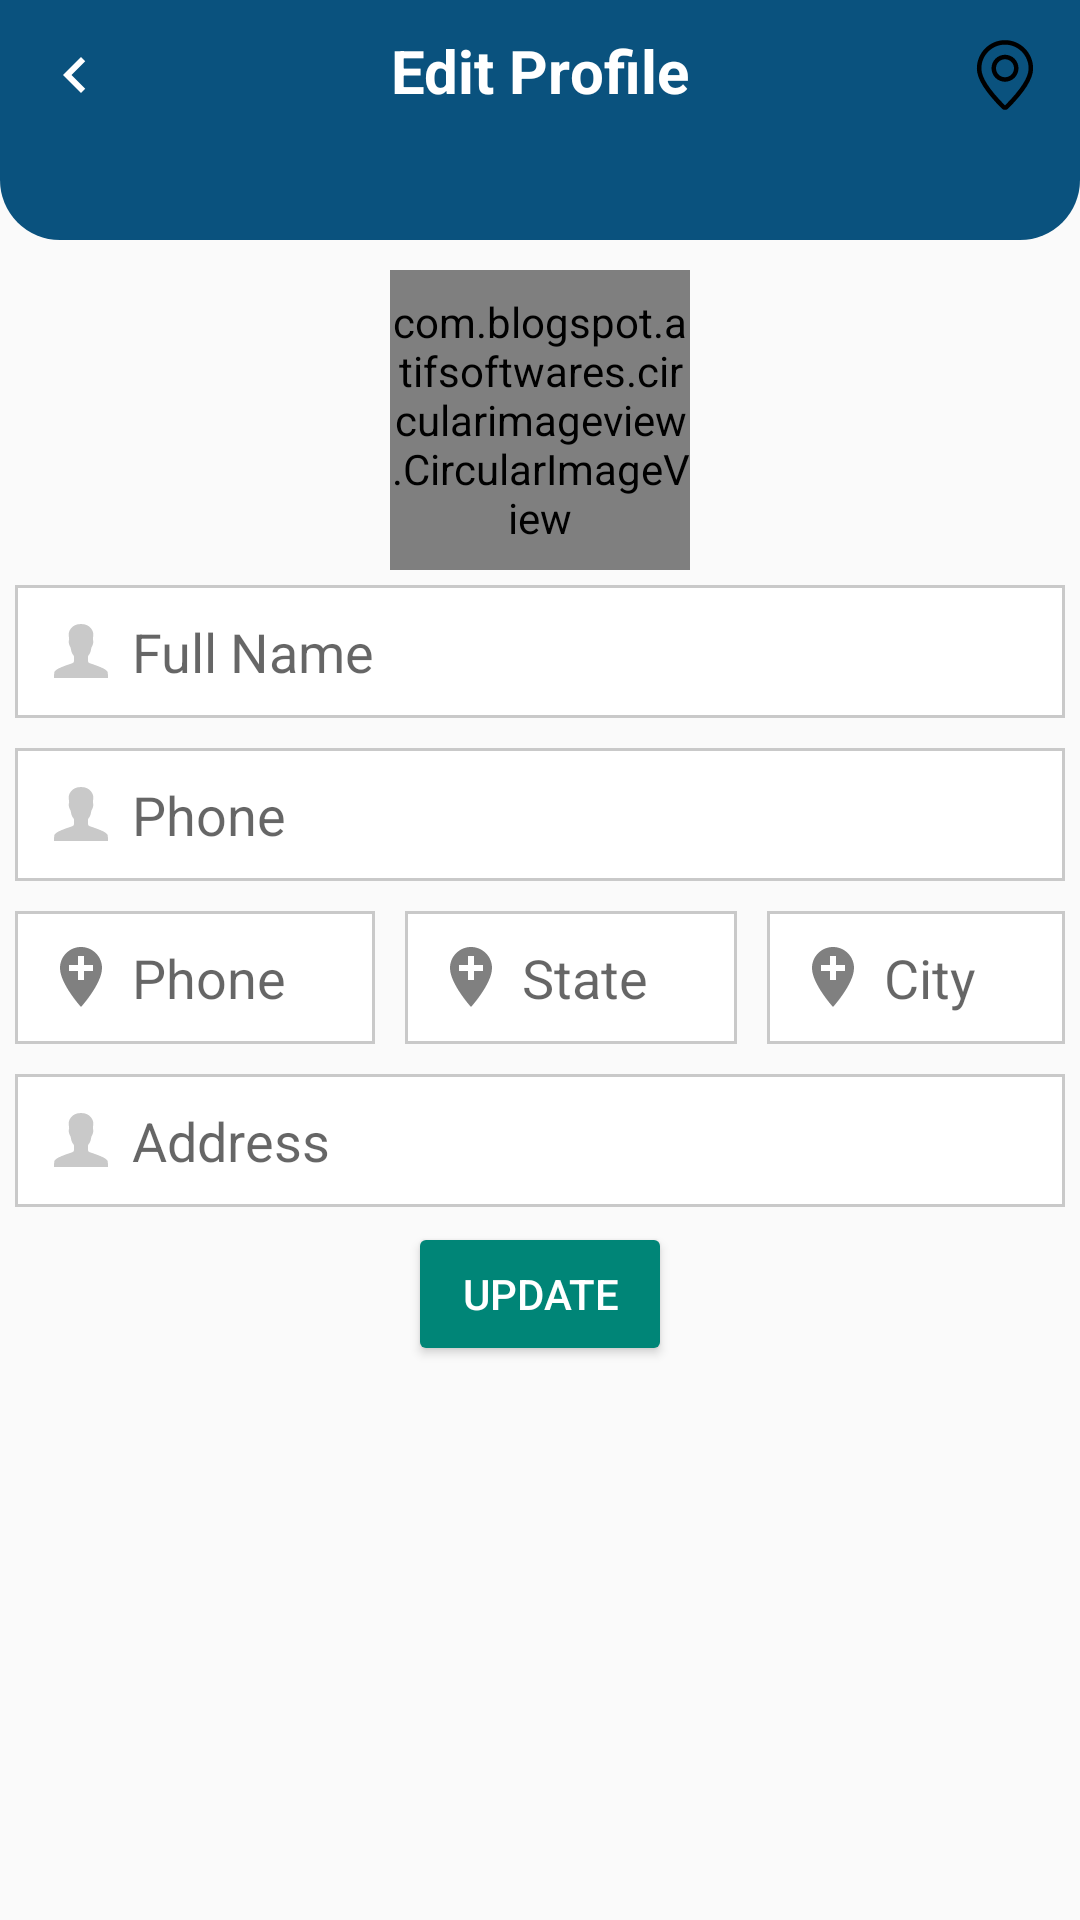

Where to tap for icons on this 1080px×1920px app screen, as (x=x, y=y):
back: (x=74, y=75)
